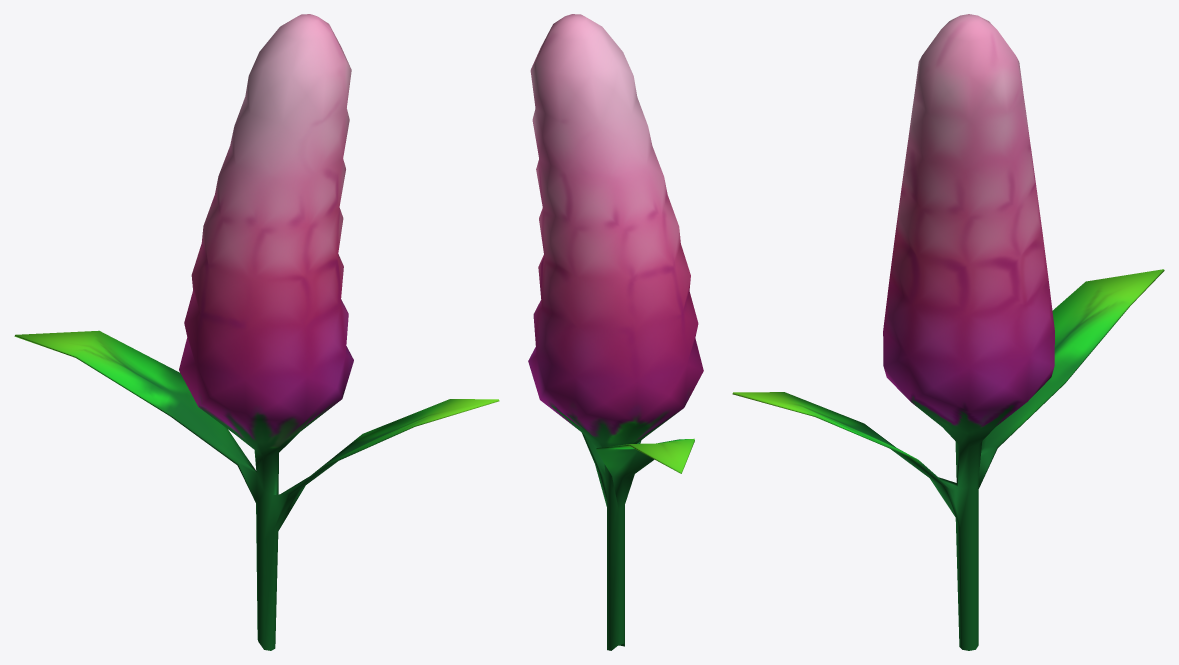
Rendered from LongPurpleFlower.fbx.
The picture shows the model from 3 angles, left to right: view 1: azimuth 30°, elevation 25°; view 2: azimuth 150°, elevation 25°; view 3: azimuth 270°, elevation 25°; orthographic projection. The views are drawn at different scales.
Visible parts, largest first — view 1: LongPurpleFlower; view 2: LongPurpleFlower; view 3: LongPurpleFlower.
Part boxes in pixels (x1,y1,x2,y2): LongPurpleFlower: (14,14,499,650); LongPurpleFlower: (528,14,703,650); LongPurpleFlower: (732,14,1164,650).
Bounding box in the file's own units: 112 × 237 × 143.
1 material, 1 textured.
